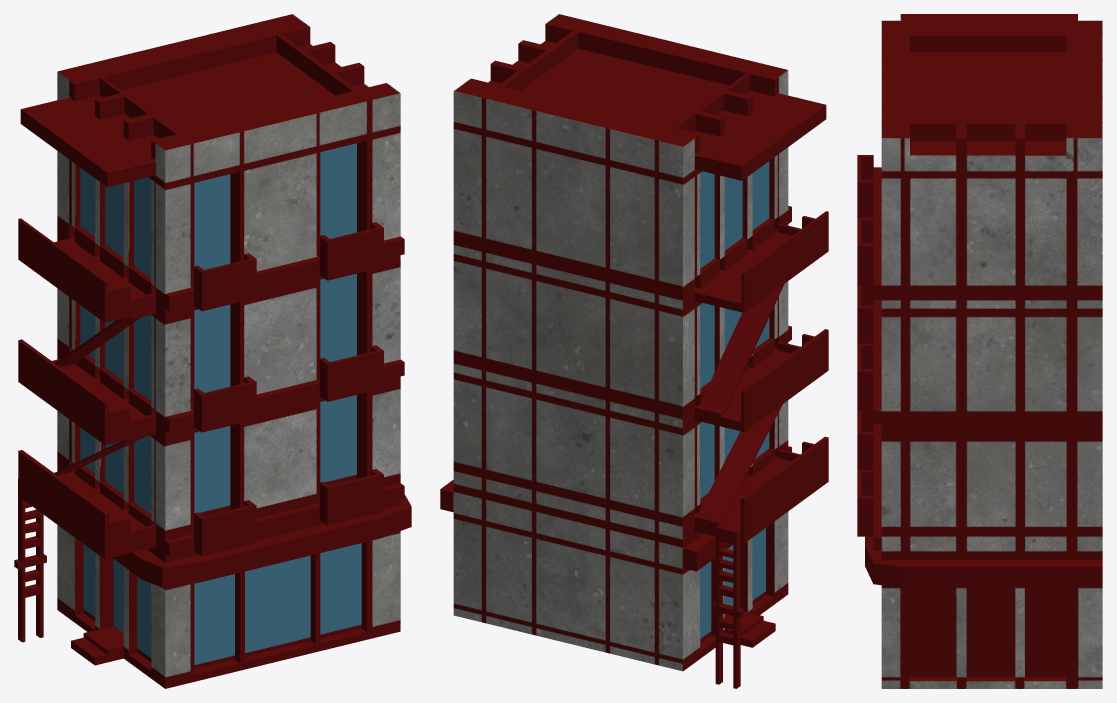
Rendered from ChaosZooCityMapTower11.fbx.
3 views of the same model, side by side, from view 1: azimuth 30°, elevation 25°; view 2: azimuth 150°, elevation 25°; view 3: azimuth 270°, elevation 25° (orthographic). The views are drawn at different scales.
Parts seen in each view (by area): view 1: pCube9; view 2: pCube9; view 3: pCube9.
Boxes of the visible parts, x1,y1,x2,y2 form: pCube9: [14, 14, 411, 688]; pCube9: [440, 14, 828, 688]; pCube9: [857, 14, 1102, 688].
Bounding box in the file's own units: 63.81 × 112 × 44.12.
